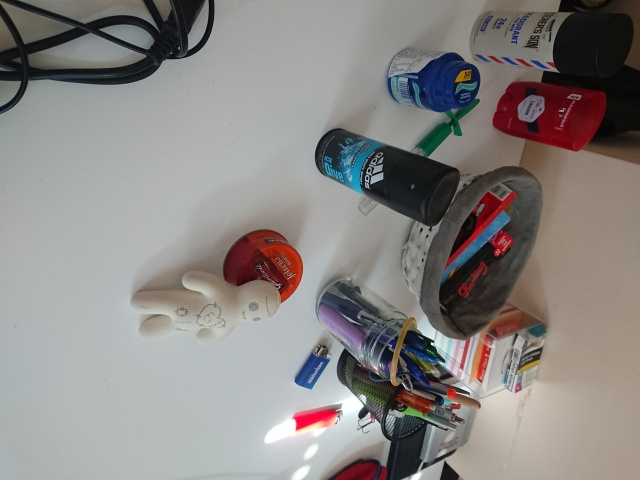Gavrilovic Pork Liver Pate 100g: (220, 227, 304, 308)
